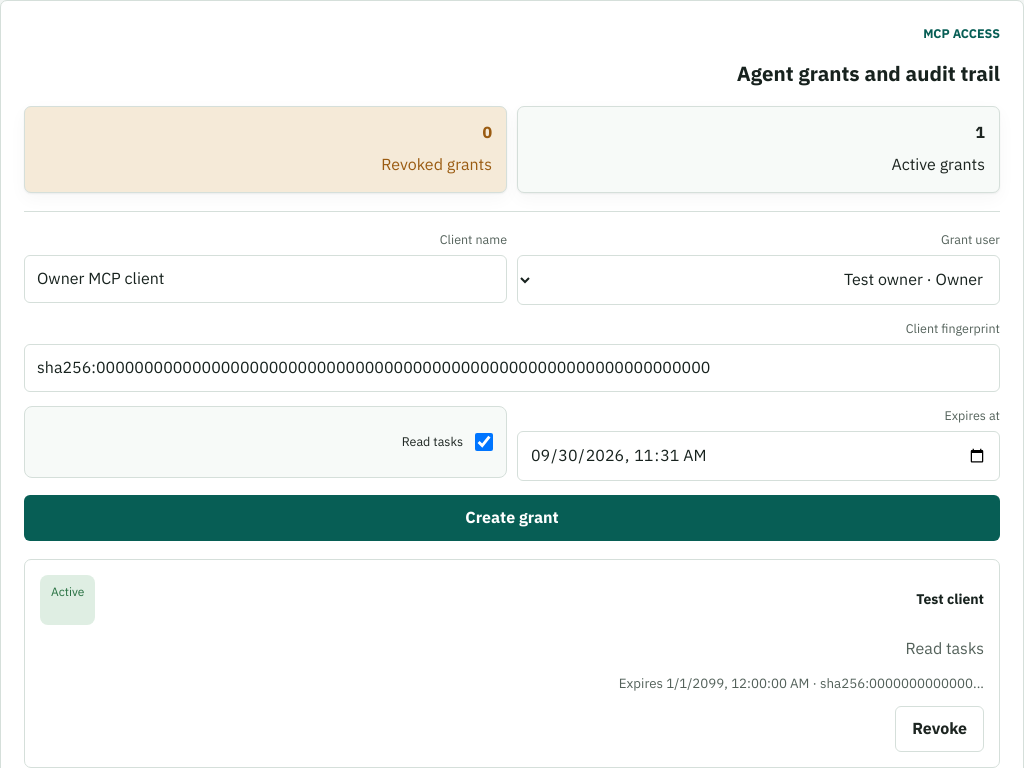
it: revoke reports the actual write result (success)
The width and height of the screenshot is (1024, 768).
Click the button "Revoke": (940,729) x1=895 y1=706 x2=984 y2=752
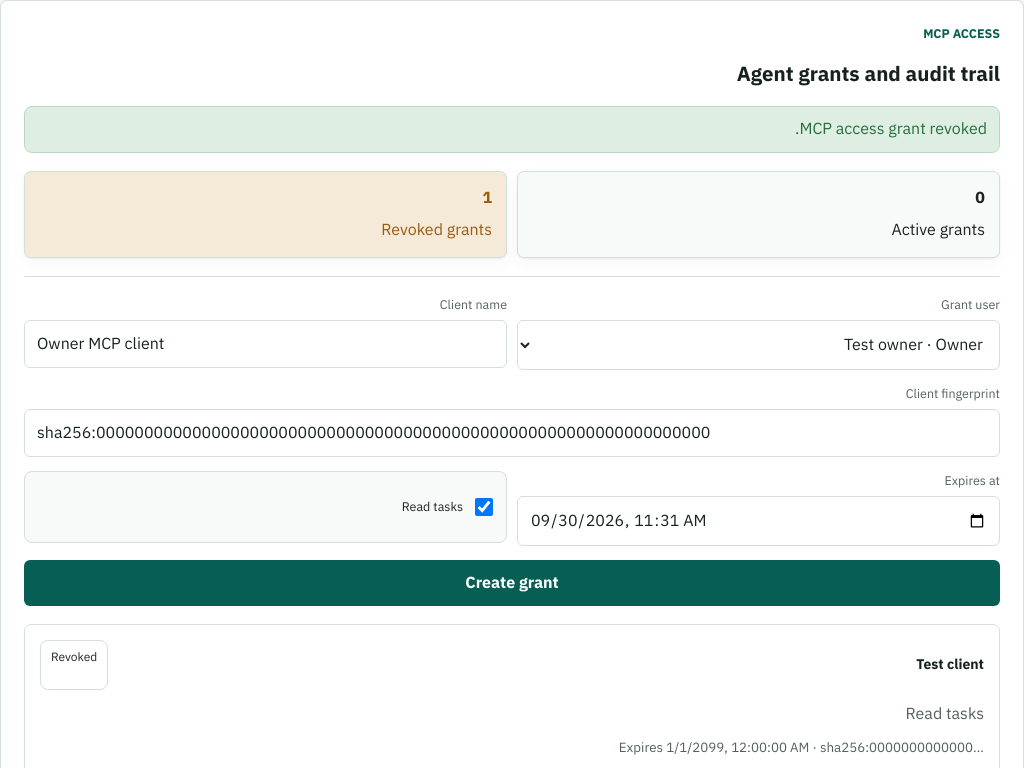
Check: the text "MCP access grant revoked." is shown, box x1=24 y1=106 x2=1000 y2=153
